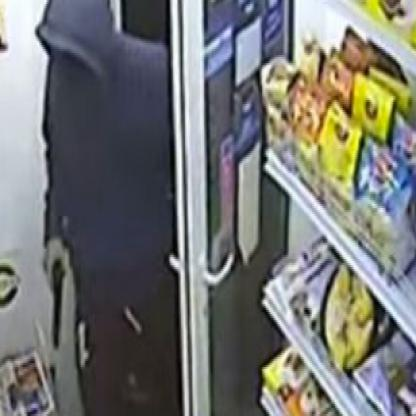gun: (36, 239, 74, 361)
